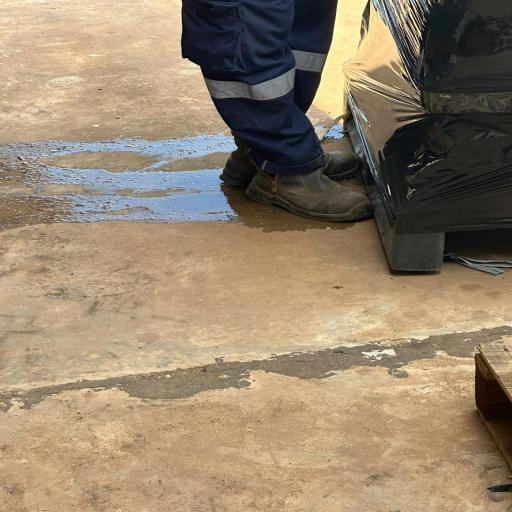safety_shoe: (209, 143, 390, 230), (248, 126, 373, 176)
